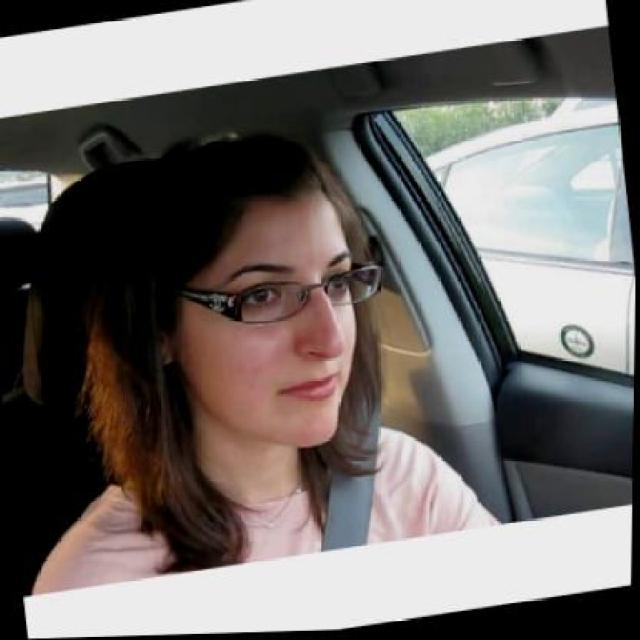attentif: (128, 120, 374, 471)
